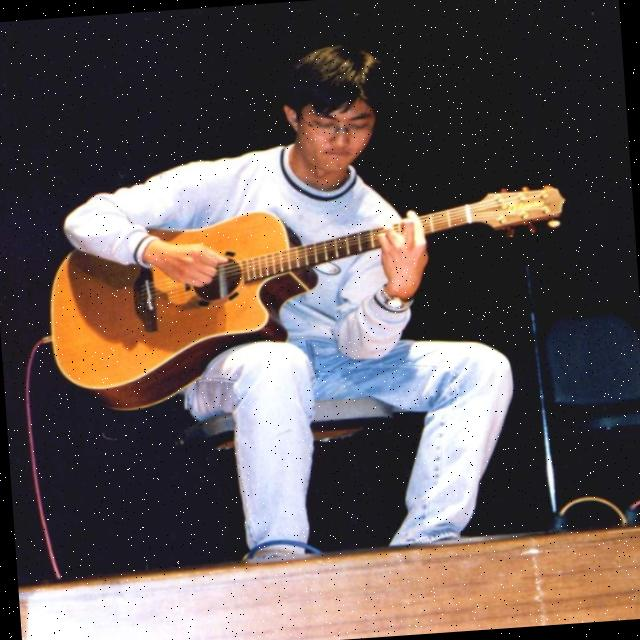guitar: (44, 184, 576, 414)
